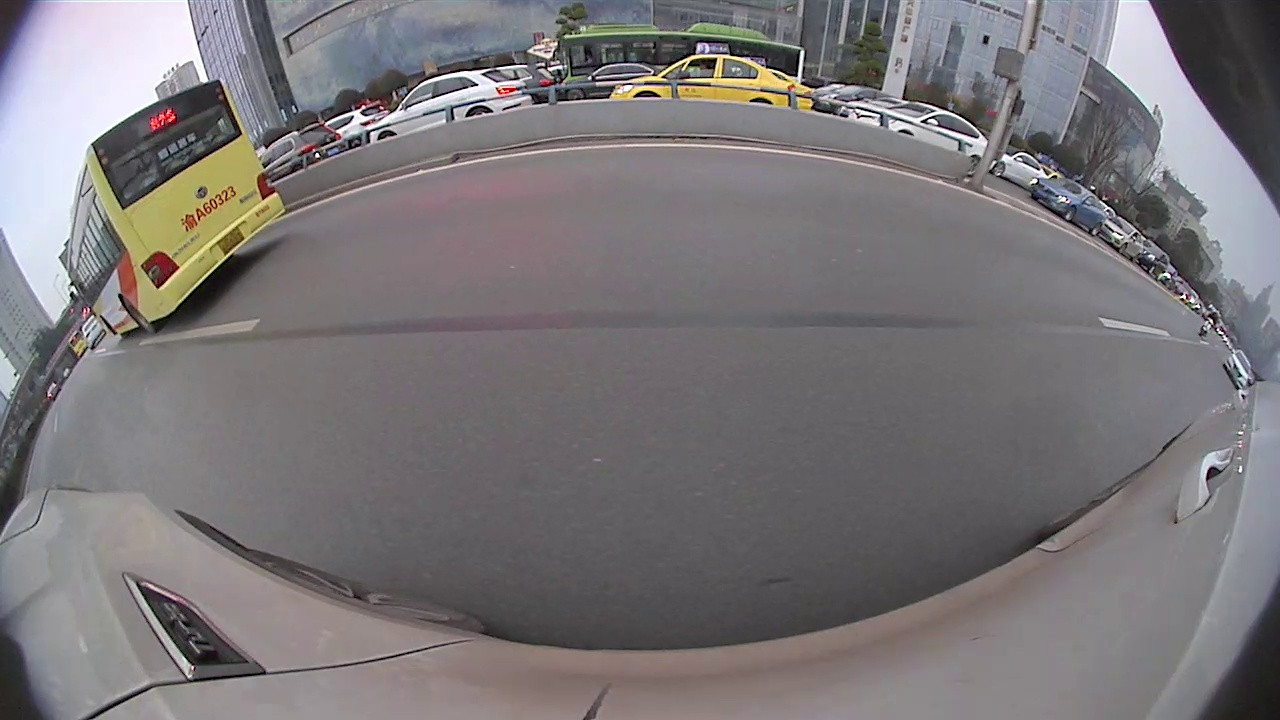bus: (61, 76, 289, 342), (552, 23, 806, 91)
car: (608, 43, 818, 116), (363, 67, 534, 148), (847, 99, 996, 178), (257, 121, 342, 193), (1028, 177, 1107, 238), (556, 60, 669, 100), (320, 102, 390, 158), (815, 84, 901, 121), (987, 148, 1047, 194), (493, 64, 563, 103), (79, 315, 106, 346)
front: (100, 316, 122, 344)
rear: (117, 294, 158, 336)
